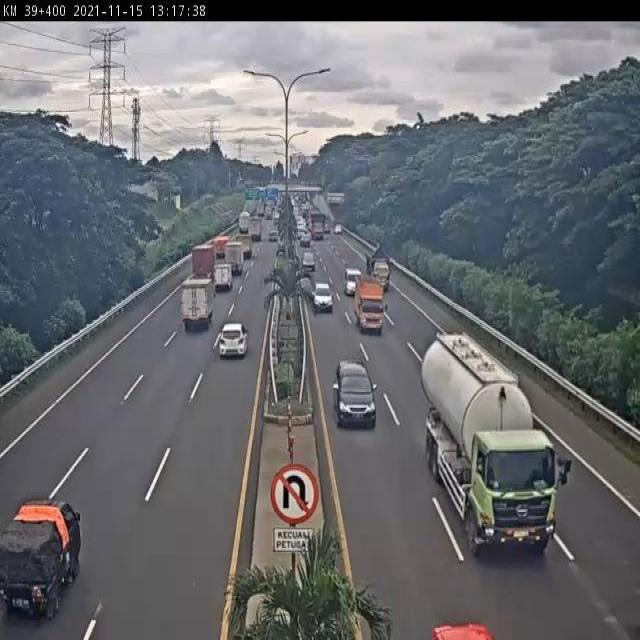car: (334, 359, 381, 432), (219, 321, 247, 360), (314, 276, 336, 313), (344, 265, 364, 295)
truck-l-: (423, 324, 573, 559)
truck-m-: (181, 270, 217, 330), (194, 242, 213, 282), (225, 238, 244, 270)
truck-s-: (0, 495, 85, 620), (355, 274, 387, 334), (366, 243, 395, 288), (212, 258, 234, 290)
